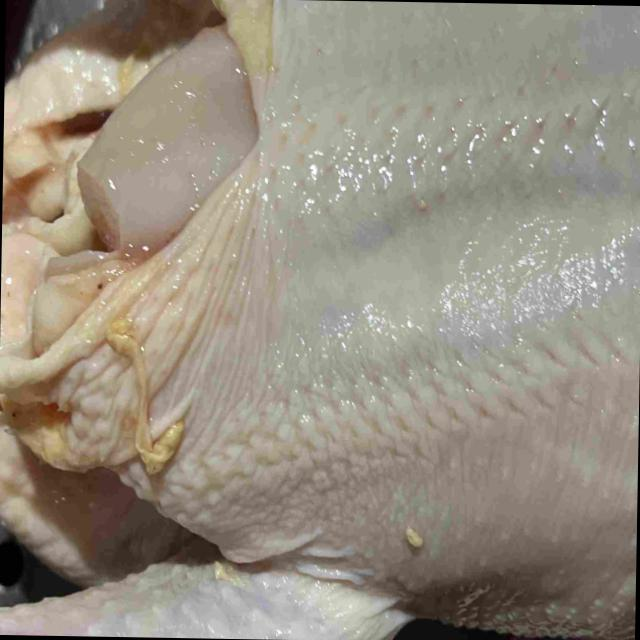breast: (91, 0, 640, 616)
leg: (0, 550, 421, 640)
